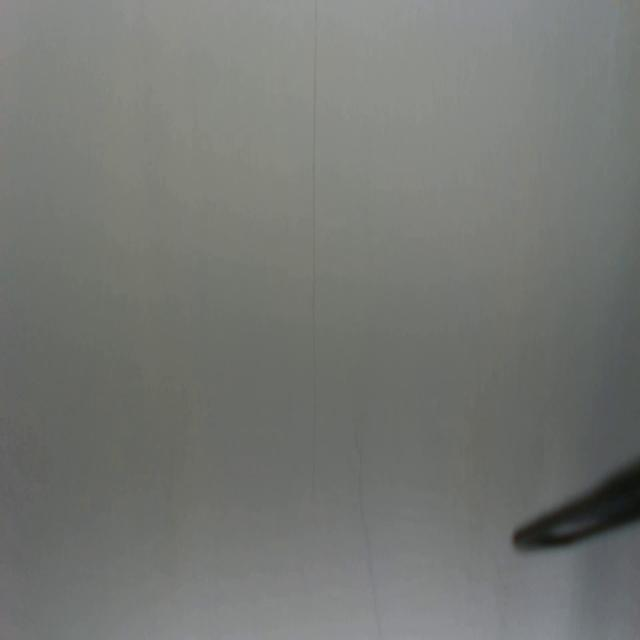crease: (310, 1, 321, 496), (356, 481, 382, 640)
